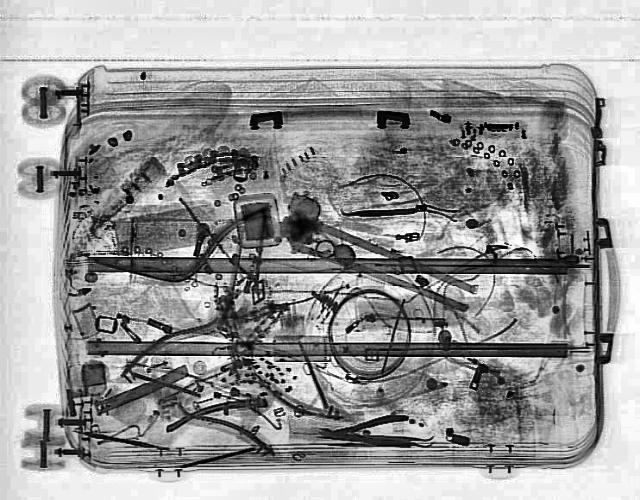Pliers: (314, 414, 410, 450)
